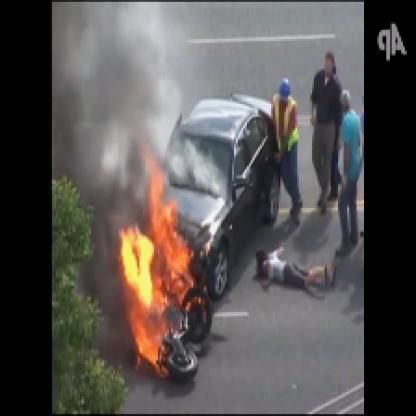Fire: (117, 126, 208, 383)
Smoke: (54, 2, 171, 174)
